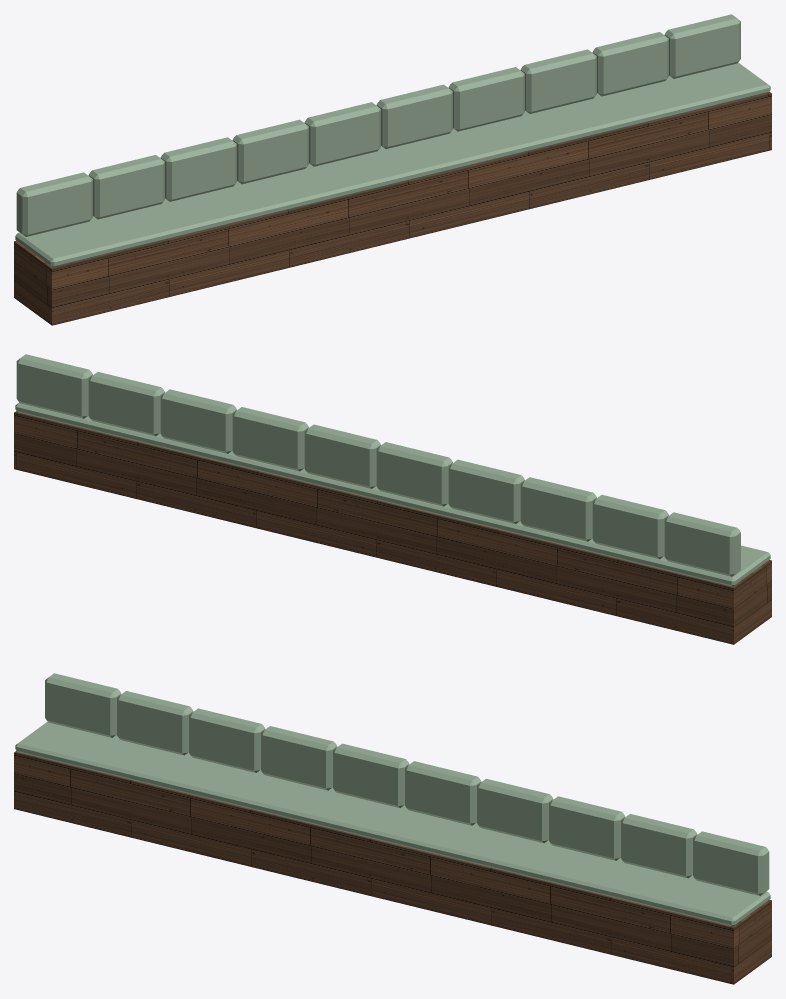
Rendered from banquette.glb.
3 views of the same model, one above another, from view 1: azimuth 30°, elevation 25°; view 2: azimuth 150°, elevation 25°; view 3: azimuth 330°, elevation 25° (orthographic).
Parts seen in each view (by area): view 1: banquette_vinyl_g, banquette_dkwood; view 2: banquette_vinyl_g, banquette_dkwood; view 3: banquette_vinyl_g, banquette_dkwood.
Boxes of the visible parts, x1,y1,x2,y2 form: banquette_vinyl_g: [15, 14, 770, 267]; banquette_dkwood: [14, 92, 771, 325]; banquette_vinyl_g: [15, 354, 770, 586]; banquette_dkwood: [14, 411, 771, 644]; banquette_vinyl_g: [15, 673, 770, 926]; banquette_dkwood: [14, 751, 771, 984].
Size of the model in its own units: 6 by 0.88 by 0.55.
Materials: 2 (1 with a texture image).
